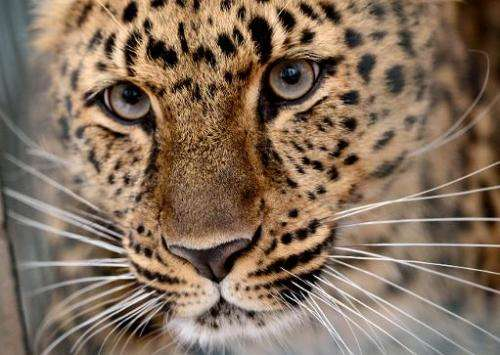amur_leopard: (28, 1, 491, 336)
